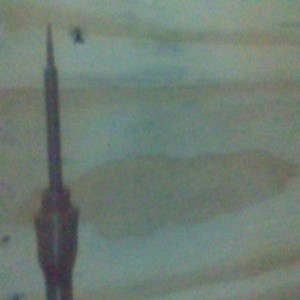solder: (33, 23, 80, 300)
